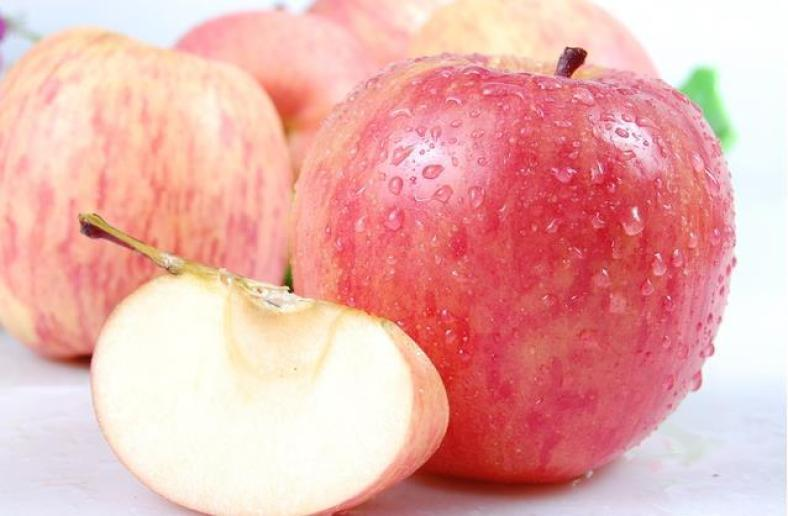apple: (300, 53, 722, 479), (4, 17, 344, 363)
